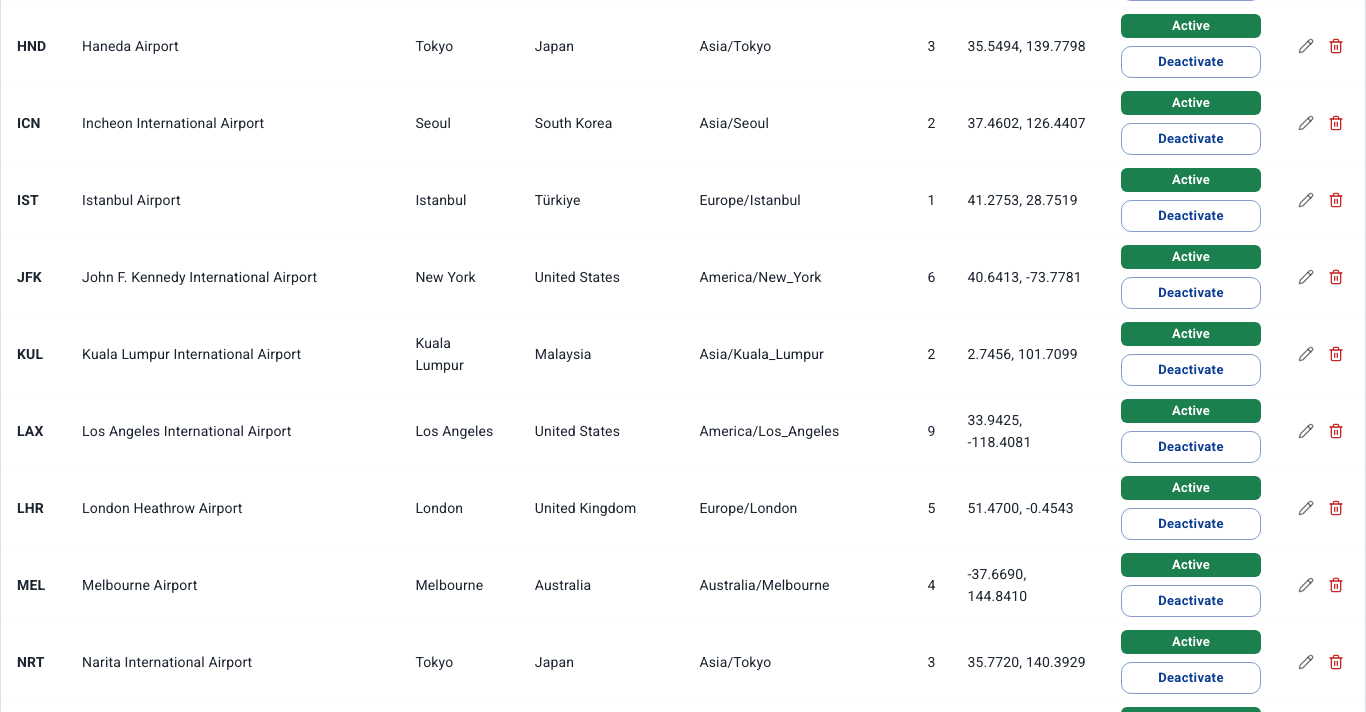
Scenario: AdminAirportsPage › edits an airport and can cancel the dialog
(page scrolled)
Expected: the text "KUL" is shown, [17,346,43,362]
Click the button named "Edit KUL" at (1306, 354), box [1293,341,1319,367]
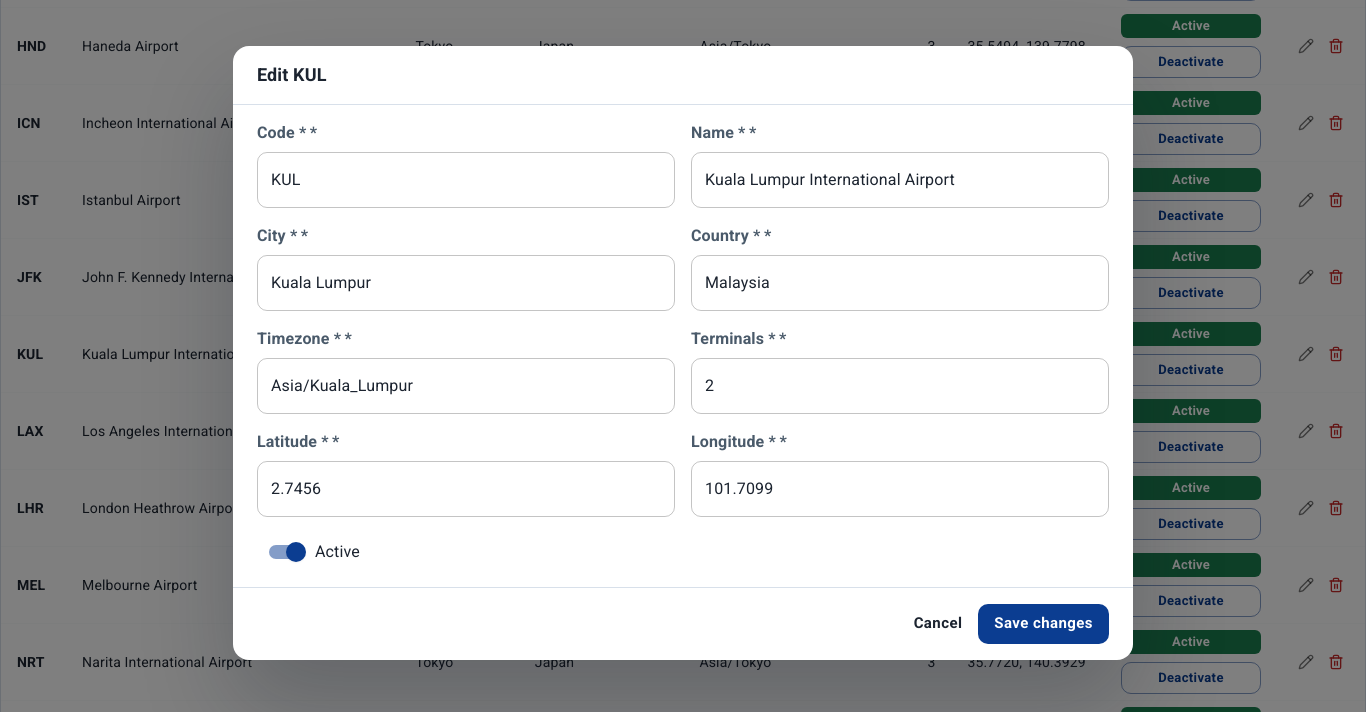
Expected: the heading "Edit KUL" is shown, [257,64,326,85]
Type "KL City" into the field labelled "City * *" at (466, 283), box [257,255,675,311]
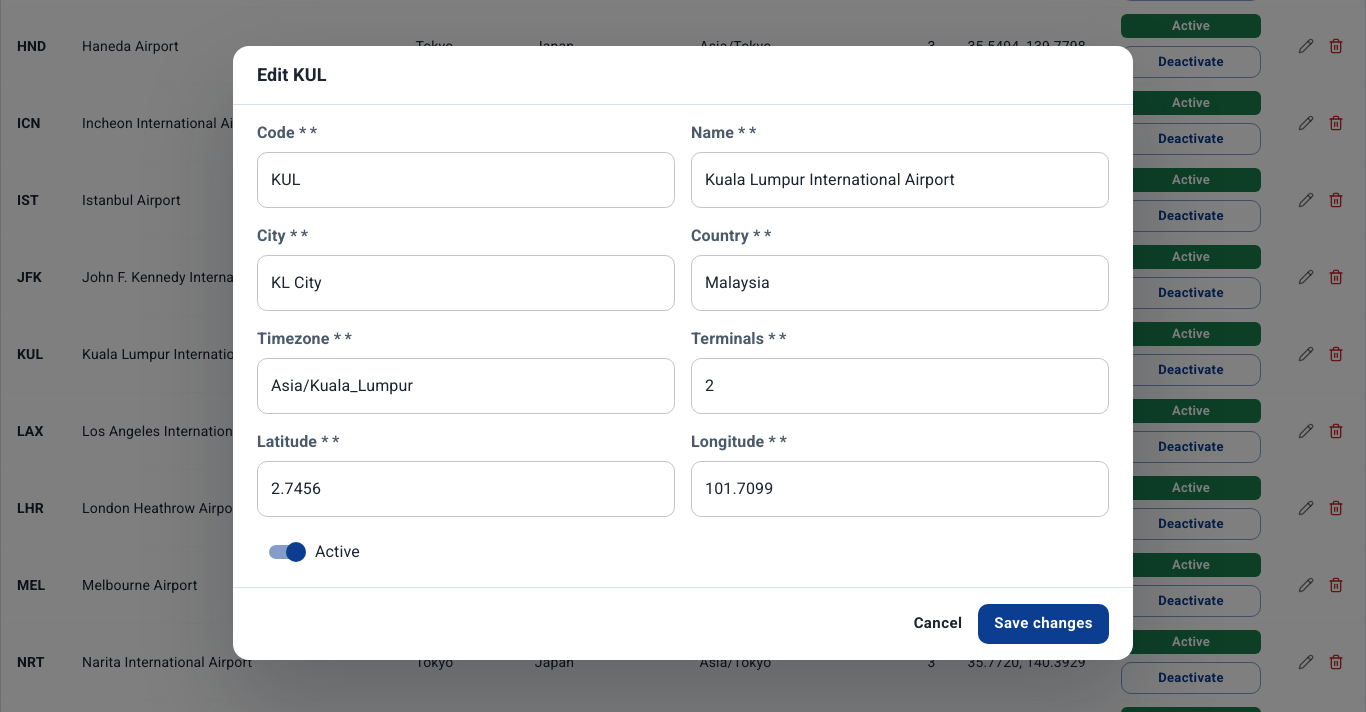
Click the button "Save changes" at (1044, 624), box [978,604,1109,644]
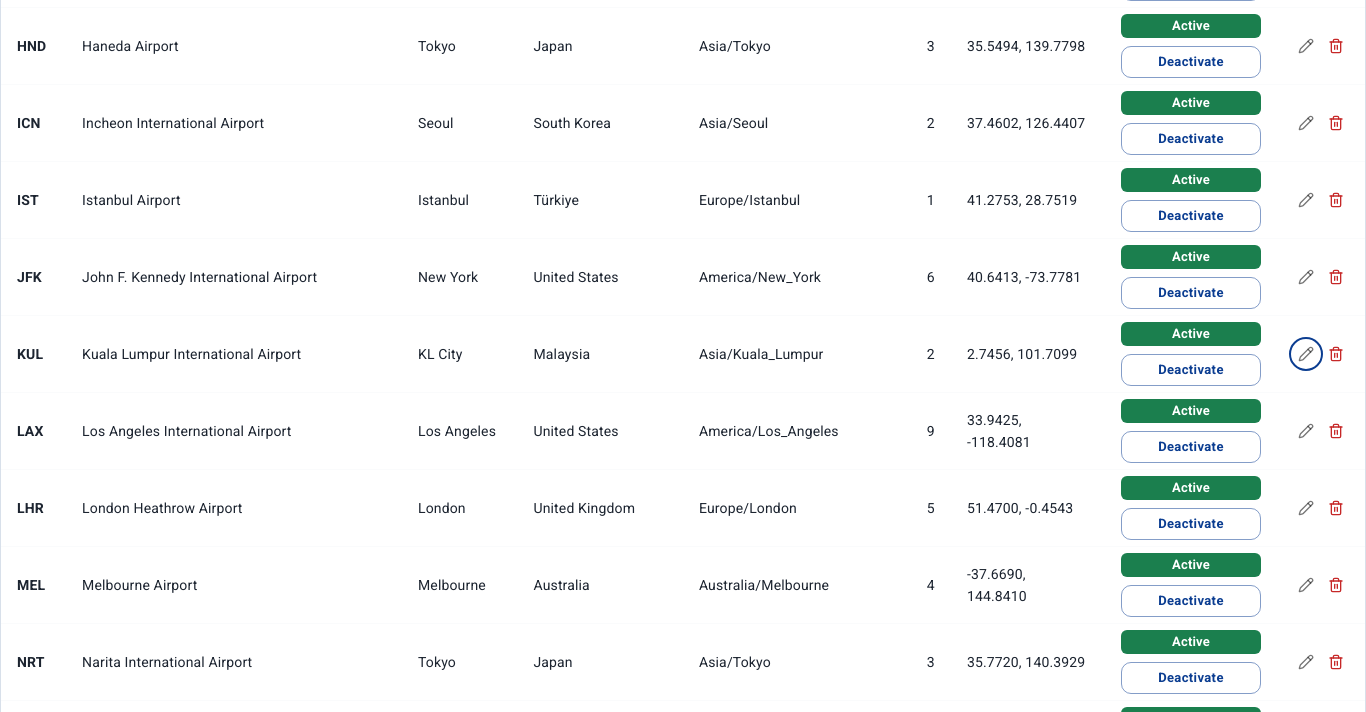
Expected: the heading "Edit KUL" is gone
Click the button named "Edit KUL" at (1306, 354), box [1293,341,1319,367]
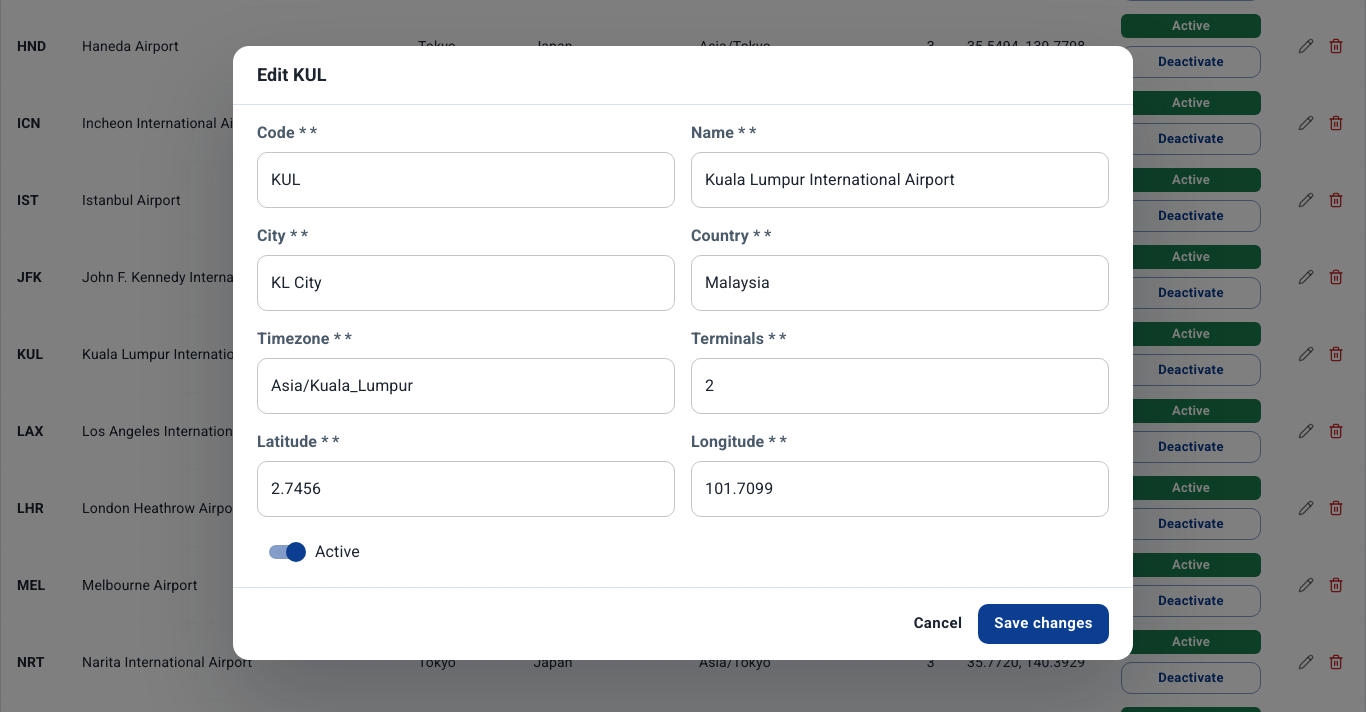
Expected: the heading "Edit KUL" is shown, [257,64,326,85]
Click the button "Cancel" at (938, 624), box [906,604,970,644]
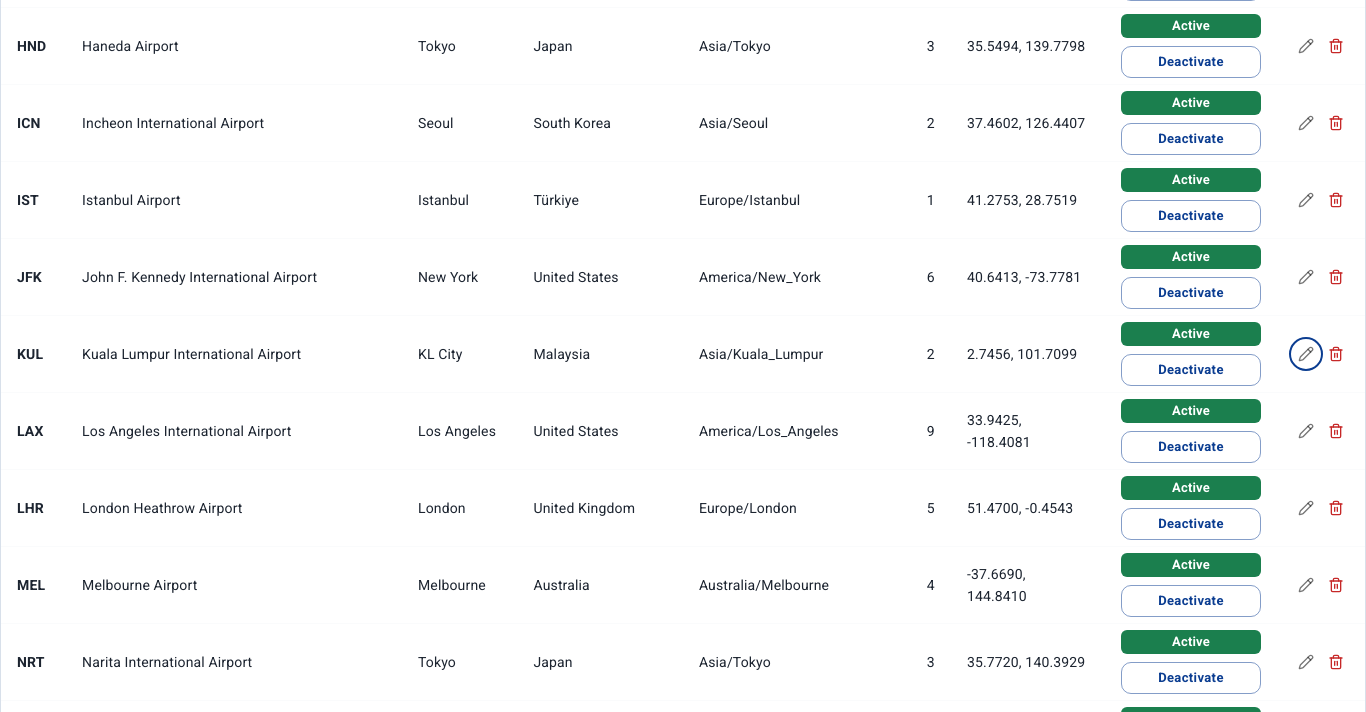
Expected: the heading "Edit KUL" is gone
